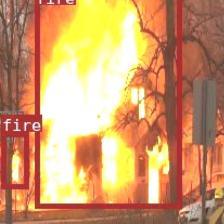fire: (34, 0, 180, 207), (0, 131, 28, 187)
